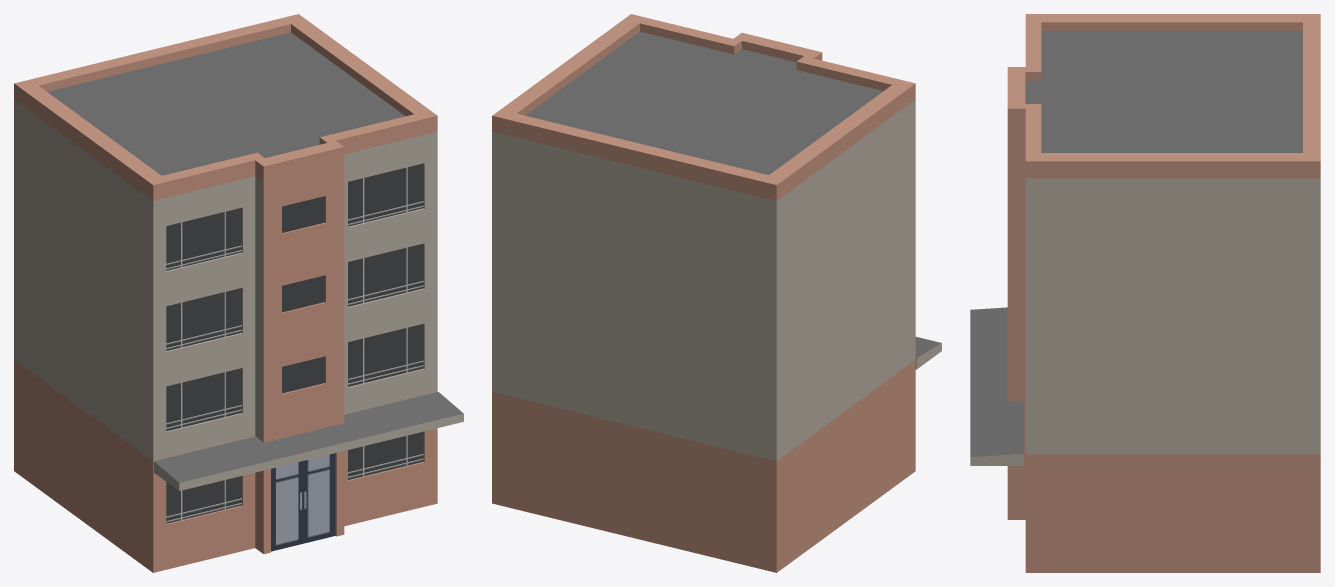
File: building-sky-small-color01.glb
3 renders of one model, left to right at view 1: azimuth 30°, elevation 25°; view 2: azimuth 150°, elevation 25°; view 3: azimuth 270°, elevation 25°, orthographic. The views are drawn at different scales.
Parts seen in each view (by area): view 1: Building Sky_small_color01; view 2: Building Sky_small_color01; view 3: Building Sky_small_color01.
Boxes of the visible parts, <box> form: Building Sky_small_color01: <box>14,14,463,572</box>; Building Sky_small_color01: <box>492,14,941,572</box>; Building Sky_small_color01: <box>970,14,1320,572</box>.
Bounding box in the file's own units: 13 × 16.93 × 13.07.
1 material, 1 textured.
